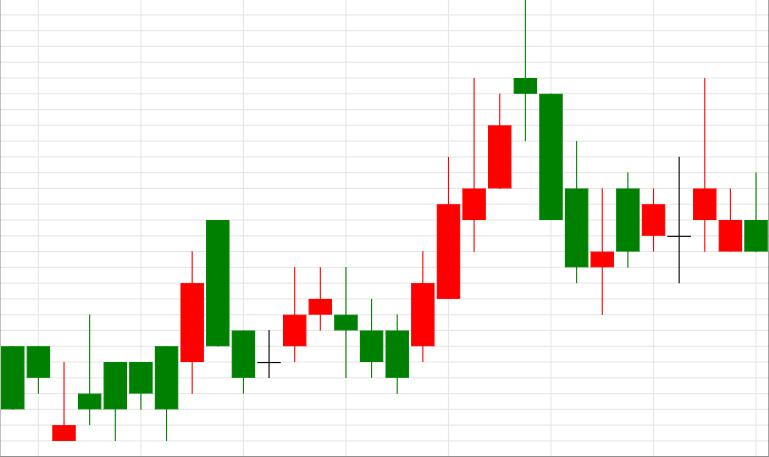evening_star_fall: (385, 0, 563, 394)
